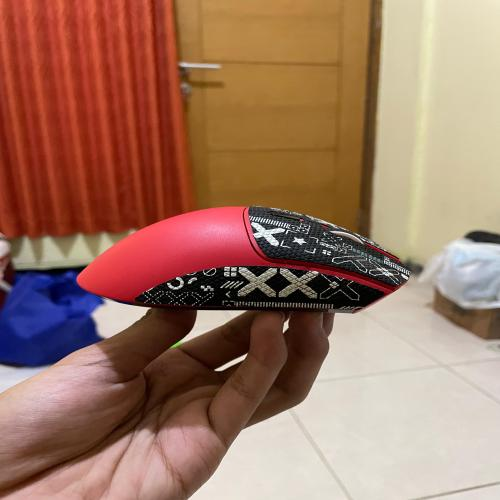mouse: (63, 190, 427, 325)
